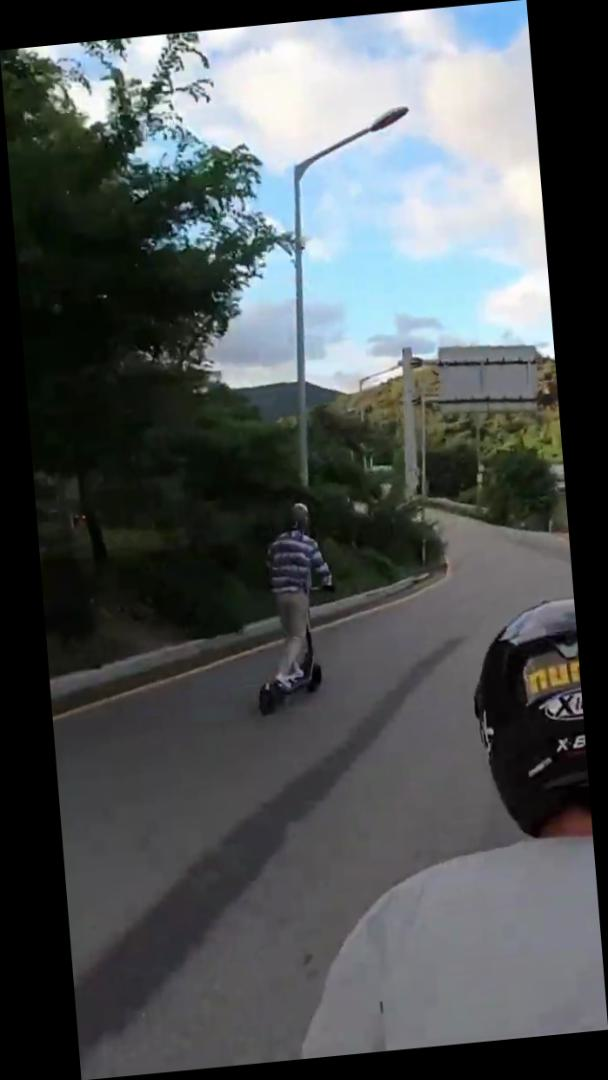helmet: (238, 496, 350, 722)
